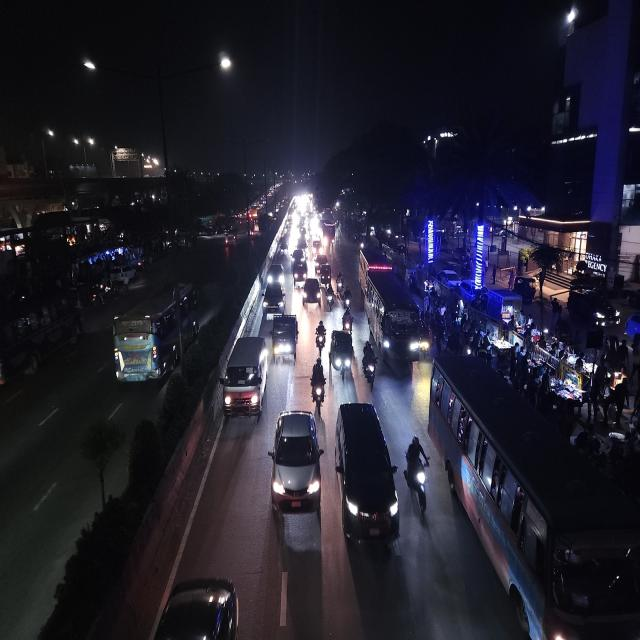bus: (427, 350, 640, 640), (110, 279, 192, 394), (363, 271, 428, 368)
car: (334, 398, 400, 560), (270, 406, 320, 518), (220, 332, 268, 424), (331, 327, 353, 379), (262, 281, 286, 318), (303, 276, 321, 309), (267, 262, 285, 289)
cng: (320, 264, 331, 286)
motorcycle: (404, 432, 432, 517), (310, 355, 326, 411), (361, 338, 377, 388), (314, 316, 327, 357), (342, 305, 353, 336), (325, 284, 335, 312), (334, 270, 344, 296), (342, 286, 352, 310)
pickup_van: (271, 312, 299, 363), (292, 259, 308, 284)
